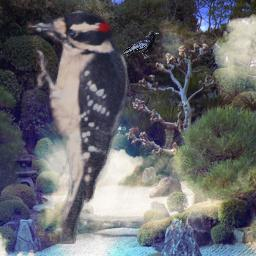Crow: (121, 30, 159, 59)
Woodpecker: (27, 6, 132, 244)
